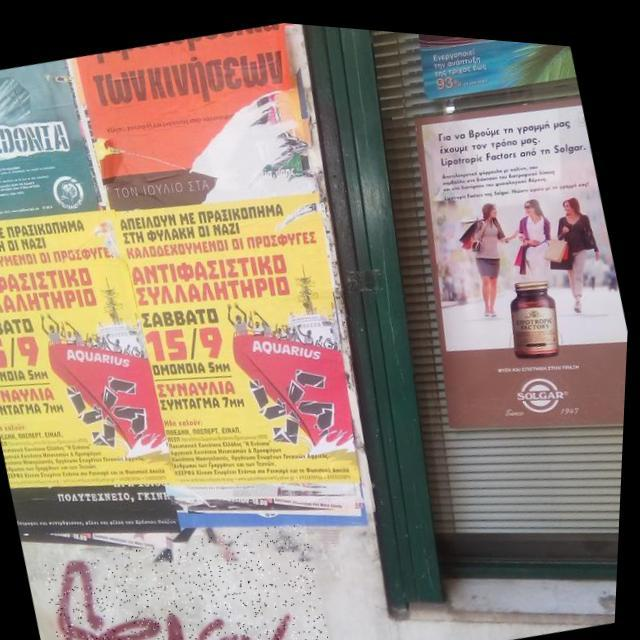-: (43, 499, 344, 640)
